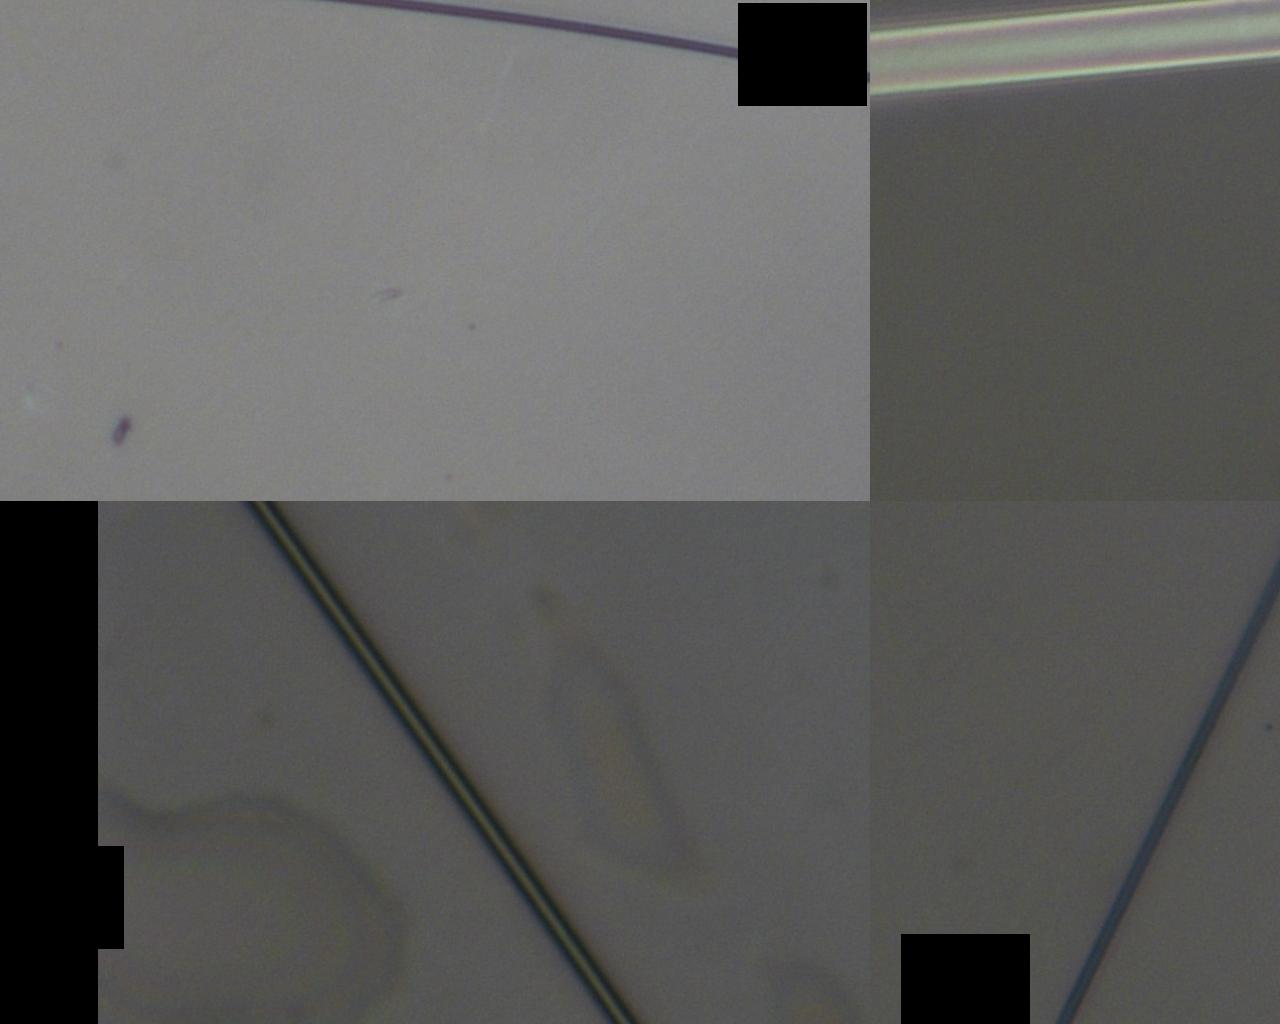fiber: (241, 501, 644, 1024), (1052, 548, 1280, 1024), (298, 0, 870, 86), (870, 0, 1280, 97)
